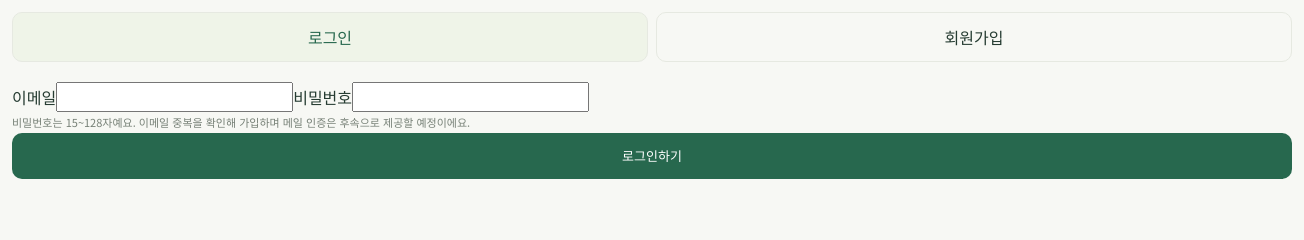
Test case: 실제 계정 폼 › 가입 후 자동 로그인하지 않고 로그인으로 전환한다
The image size is (1304, 240).
Expected: the field labelled "이메일" is enabled, [56,82,293,112]
Click the button "회원가입". click: [974, 37]
box: [656,12,1292,62]
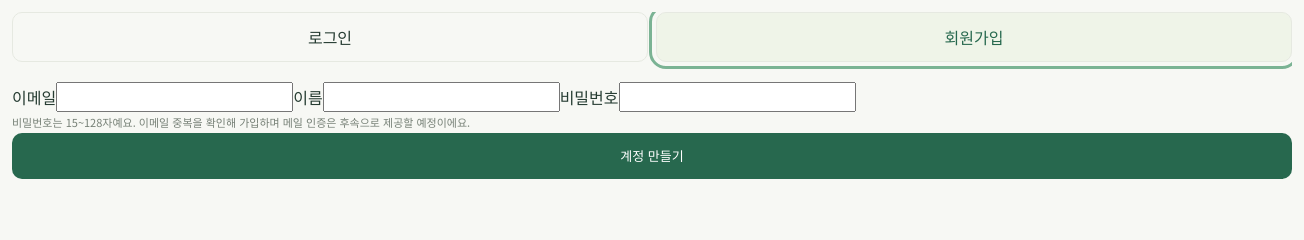
Type "member@example.invalid" into the field labelled "이메일". click: [175, 97]
box: [56,82,293,112]
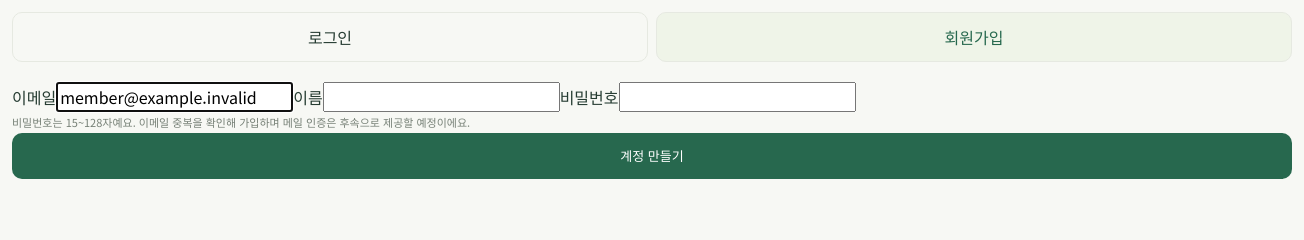
Type "테스트" into the field labelled "이름". click: [441, 97]
box: [323,82,560,112]
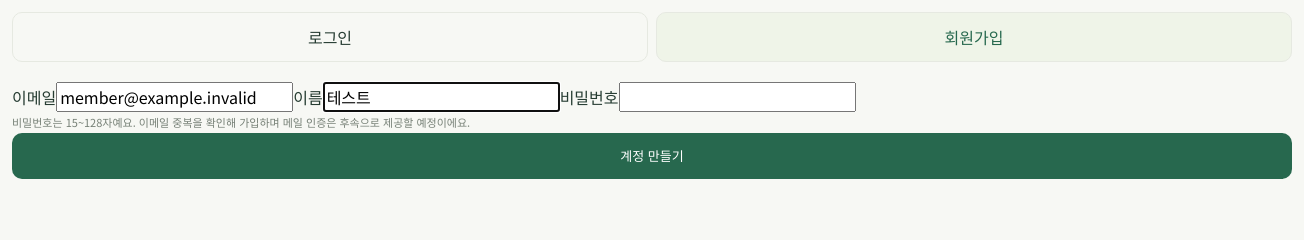
Type "A test passphrase with spaces" into the password field labelled "비밀번호". click: [737, 97]
box: [618,82,856,112]
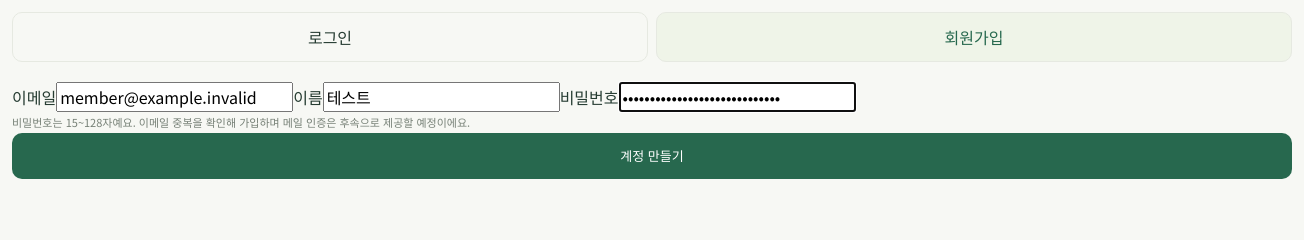
Click the button "계정 만들기". click: [652, 156]
box: [12,133,1292,179]
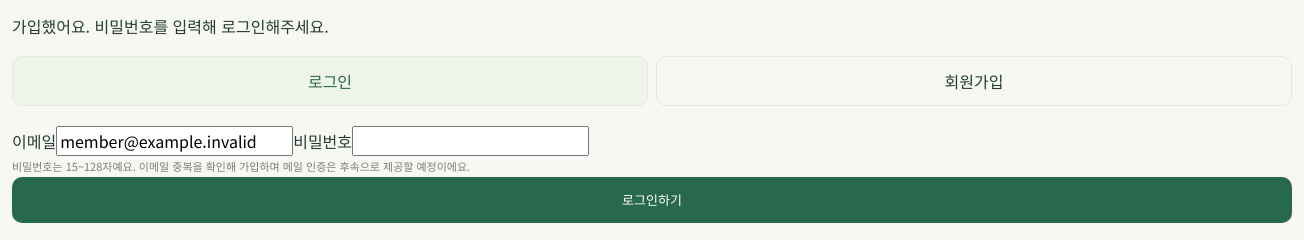
Expected: the text "가입했어요. 비밀번호를 입력해 로그인해주세요." is shown, [12,14,329,38]
Expected: the password field labelled "비밀번호" is empty, [352,126,589,156]
Expected: the button "로그인하기" is shown, [12,177,1292,223]
